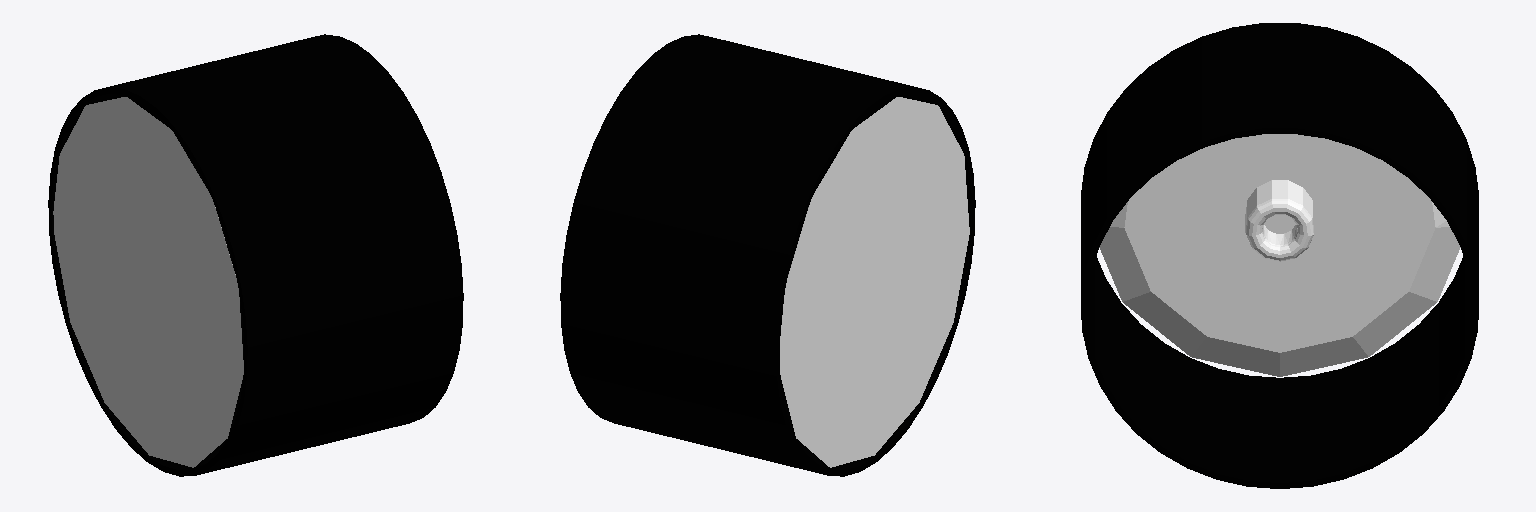
The model's file is Rad-rechts-vorne.obj.
3 renders of one model, left to right at view 1: azimuth 30°, elevation 25°; view 2: azimuth 150°, elevation 25°; view 3: azimuth 270°, elevation 25°, orthographic.
Visible parts, largest first — view 1: Frontspoiler_4.4.4_-_Abweiser_konvex.004_Frontspoiler_4.4.4_-_Ab, Radkappe_-_10_mm.002; view 2: Frontspoiler_4.4.4_-_Abweiser_konvex.004_Frontspoiler_4.4.4_-_Ab, Radkappe_-_10_mm.002; view 3: Frontspoiler_4.4.4_-_Abweiser_konvex.004_Frontspoiler_4.4.4_-_Ab, Radkappe_-_10_mm.002.
Boxes of the visible parts, box(x1,y1,x2,y2) form: Frontspoiler_4.4.4_-_Abweiser_konvex.004_Frontspoiler_4.4.4_-_Ab: box(48, 34, 463, 476); Radkappe_-_10_mm.002: box(53, 97, 243, 467); Frontspoiler_4.4.4_-_Abweiser_konvex.004_Frontspoiler_4.4.4_-_Ab: box(560, 34, 975, 476); Radkappe_-_10_mm.002: box(780, 97, 969, 467); Frontspoiler_4.4.4_-_Abweiser_konvex.004_Frontspoiler_4.4.4_-_Ab: box(1081, 23, 1478, 488); Radkappe_-_10_mm.002: box(1099, 134, 1460, 376).
Size of the model in its own units: 0.2018 by 0.3223 by 0.3226.